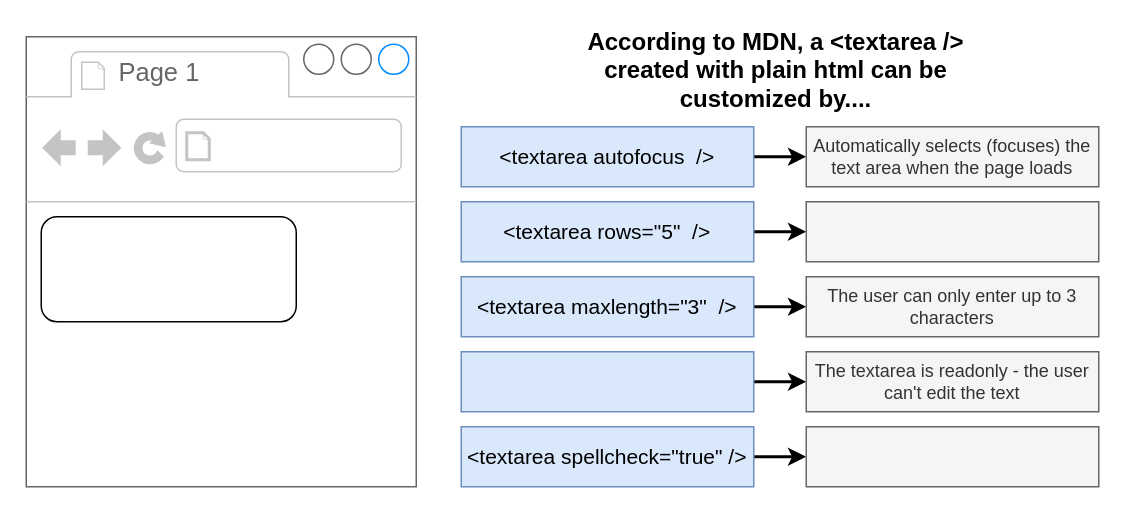
Image size: 1125x513. Some labels were removed from this diagram. The box of each missing label's shape, as (x1, y1, x2, y2) in pixels:
<textarea readonly />: (460, 350, 754, 412)
Automatically spellcheck text the user enters: (805, 425, 1099, 487)
I am a multi-line textarea element: (40, 215, 296, 322)
Sizes the textarea to receive 5 rows of text (makes it taller): (805, 200, 1099, 262)
